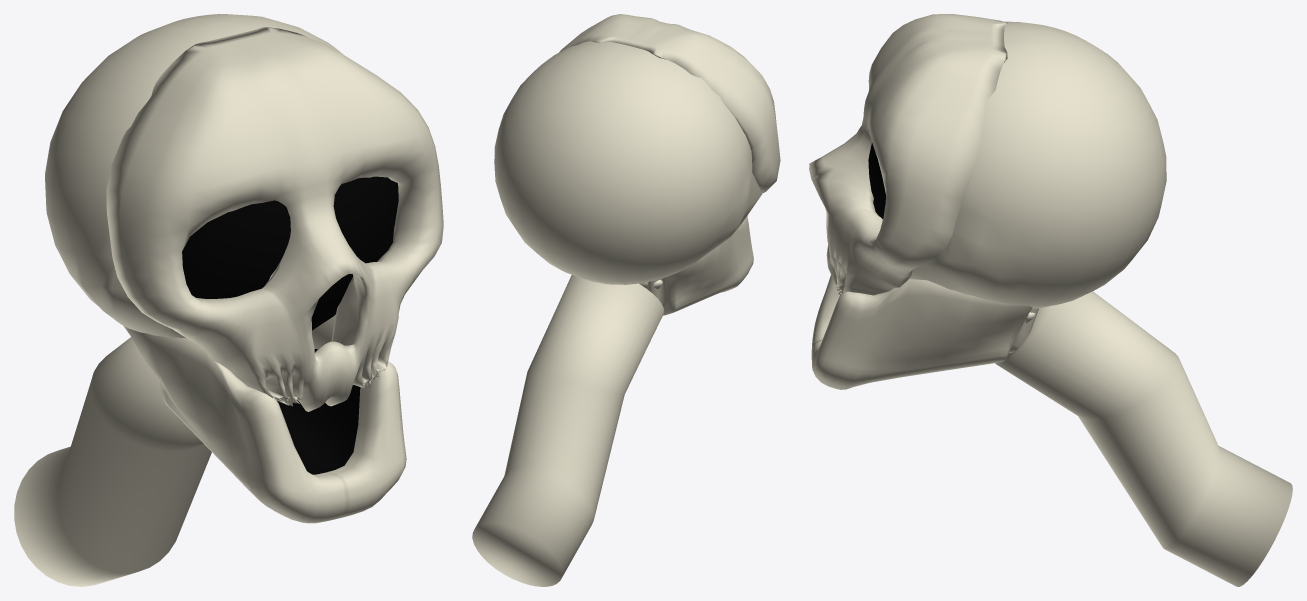
File: SkullTrashCan.fbx
3 views of the same model, side by side, from view 1: azimuth 30°, elevation 25°; view 2: azimuth 150°, elevation 25°; view 3: azimuth 270°, elevation 25° (orthographic). The views are drawn at different scales.
Visible parts, largest first — view 1: Skull, Sphere, Cylinder, Skull.001; view 2: Sphere, Cylinder, Skull, Skull.001; view 3: Sphere, Cylinder, Skull, Skull.001.
Boxes of the visible parts, x1,y1,x2,y2 form: Skull: [106, 27, 443, 411]; Sphere: [45, 14, 398, 349]; Cylinder: [14, 337, 211, 586]; Skull.001: [123, 326, 406, 523]; Sphere: [494, 41, 762, 284]; Cylinder: [472, 275, 664, 586]; Skull: [559, 14, 780, 193]; Skull.001: [639, 216, 753, 315]; Sphere: [868, 21, 1166, 308]; Cylinder: [995, 291, 1292, 586]; Skull: [809, 14, 1007, 295]; Skull.001: [811, 275, 1038, 389].
Size of the model in its own units: 286 by 568 by 456.
